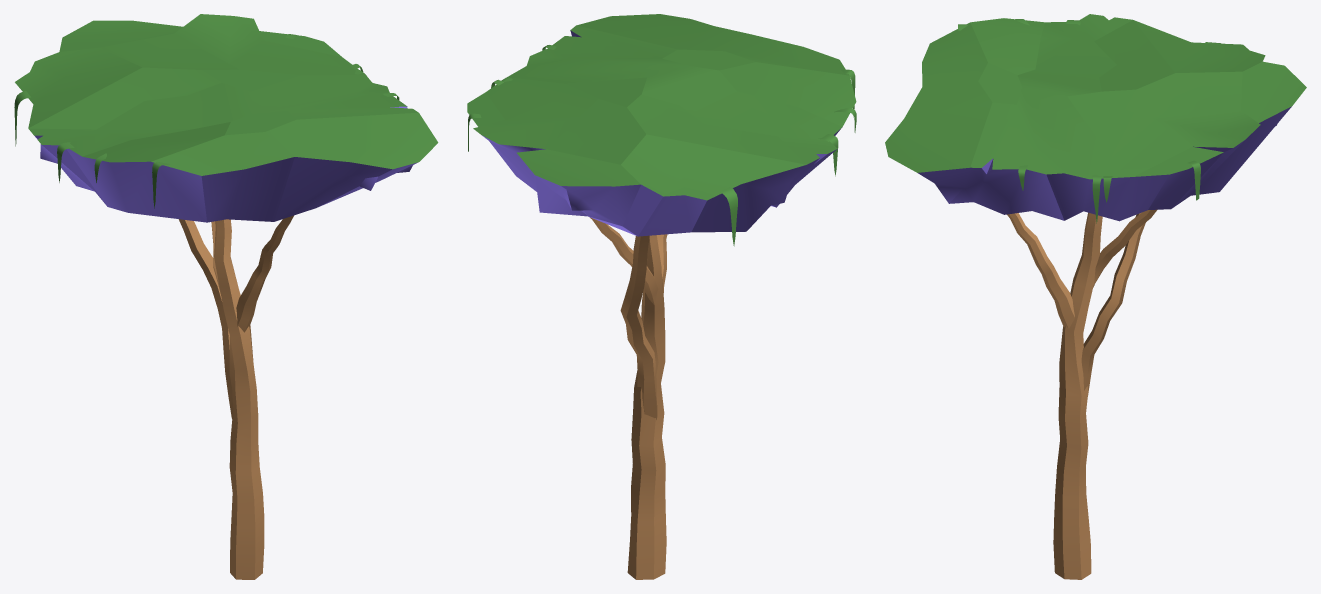
The model's file is tree_B_canopy_B_solo_lods.fbx.
3 renders of one model, left to right at view 1: azimuth 30°, elevation 25°; view 2: azimuth 150°, elevation 25°; view 3: azimuth 270°, elevation 25°, orthographic. The views are drawn at different scales.
Parts seen in each view (by area): view 1: tree_B_canopy_B_LOD0, tree_B_canopy_B_trunks_A_LOD0, tree_B_canopy_B_trunks_D_LOD0, tree_B_canopy_B_trunks_B_LOD0; view 2: tree_B_canopy_B_LOD0, tree_B_canopy_B_trunks_A_LOD0, tree_B_canopy_B_trunks_D_LOD0, tree_B_canopy_B_trunk_C_LOD0; view 3: tree_B_canopy_B_LOD0, tree_B_canopy_B_trunks_A_LOD0, tree_B_canopy_B_trunks_D_LOD0, tree_B_canopy_B_trunks_B_LOD0, tree_B_canopy_B_trunk_C_LOD0.
Boxes of the visible parts, left/top/right/bottom form: tree_B_canopy_B_LOD0: left=15, top=14, right=438, bottom=222; tree_B_canopy_B_trunks_A_LOD0: left=214, top=219, right=264, bottom=579; tree_B_canopy_B_trunks_D_LOD0: left=178, top=219, right=233, bottom=420; tree_B_canopy_B_trunks_B_LOD0: left=236, top=215, right=293, bottom=332; tree_B_canopy_B_LOD0: left=467, top=14, right=856, bottom=236; tree_B_canopy_B_trunks_A_LOD0: left=627, top=235, right=666, bottom=579; tree_B_canopy_B_trunks_D_LOD0: left=620, top=235, right=657, bottom=419; tree_B_canopy_B_trunk_C_LOD0: left=589, top=217, right=658, bottom=305; tree_B_canopy_B_LOD0: left=885, top=14, right=1306, bottom=221; tree_B_canopy_B_trunks_A_LOD0: left=1053, top=212, right=1102, bottom=579; tree_B_canopy_B_trunks_D_LOD0: left=1081, top=212, right=1145, bottom=396; tree_B_canopy_B_trunks_B_LOD0: left=1007, top=213, right=1074, bottom=328; tree_B_canopy_B_trunk_C_LOD0: left=1093, top=209, right=1157, bottom=287.
Size of what is drawn, in the model's own units: 387 by 543 by 433.
